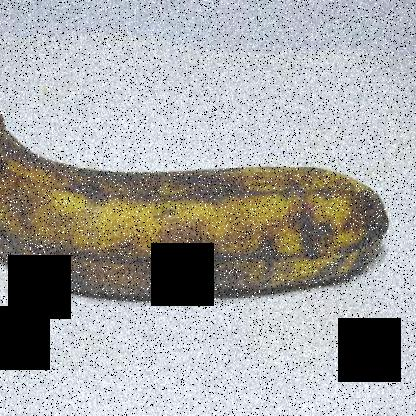overripe: (1, 88, 401, 332)
